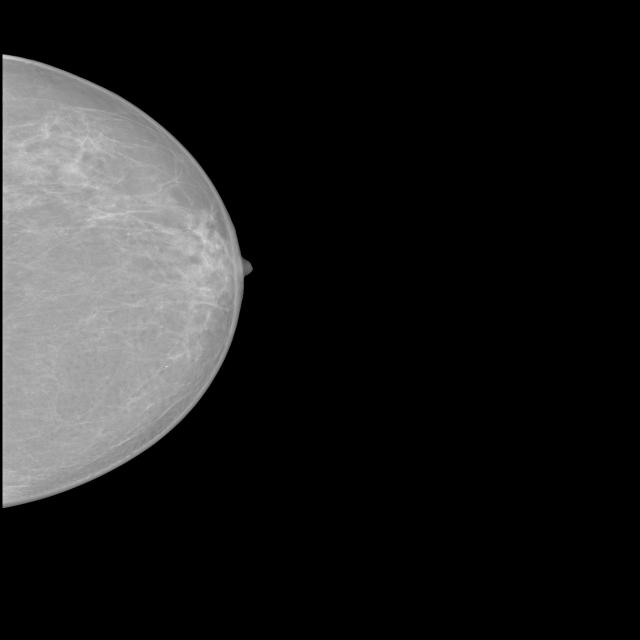Mass_1: (46, 154, 91, 182)
